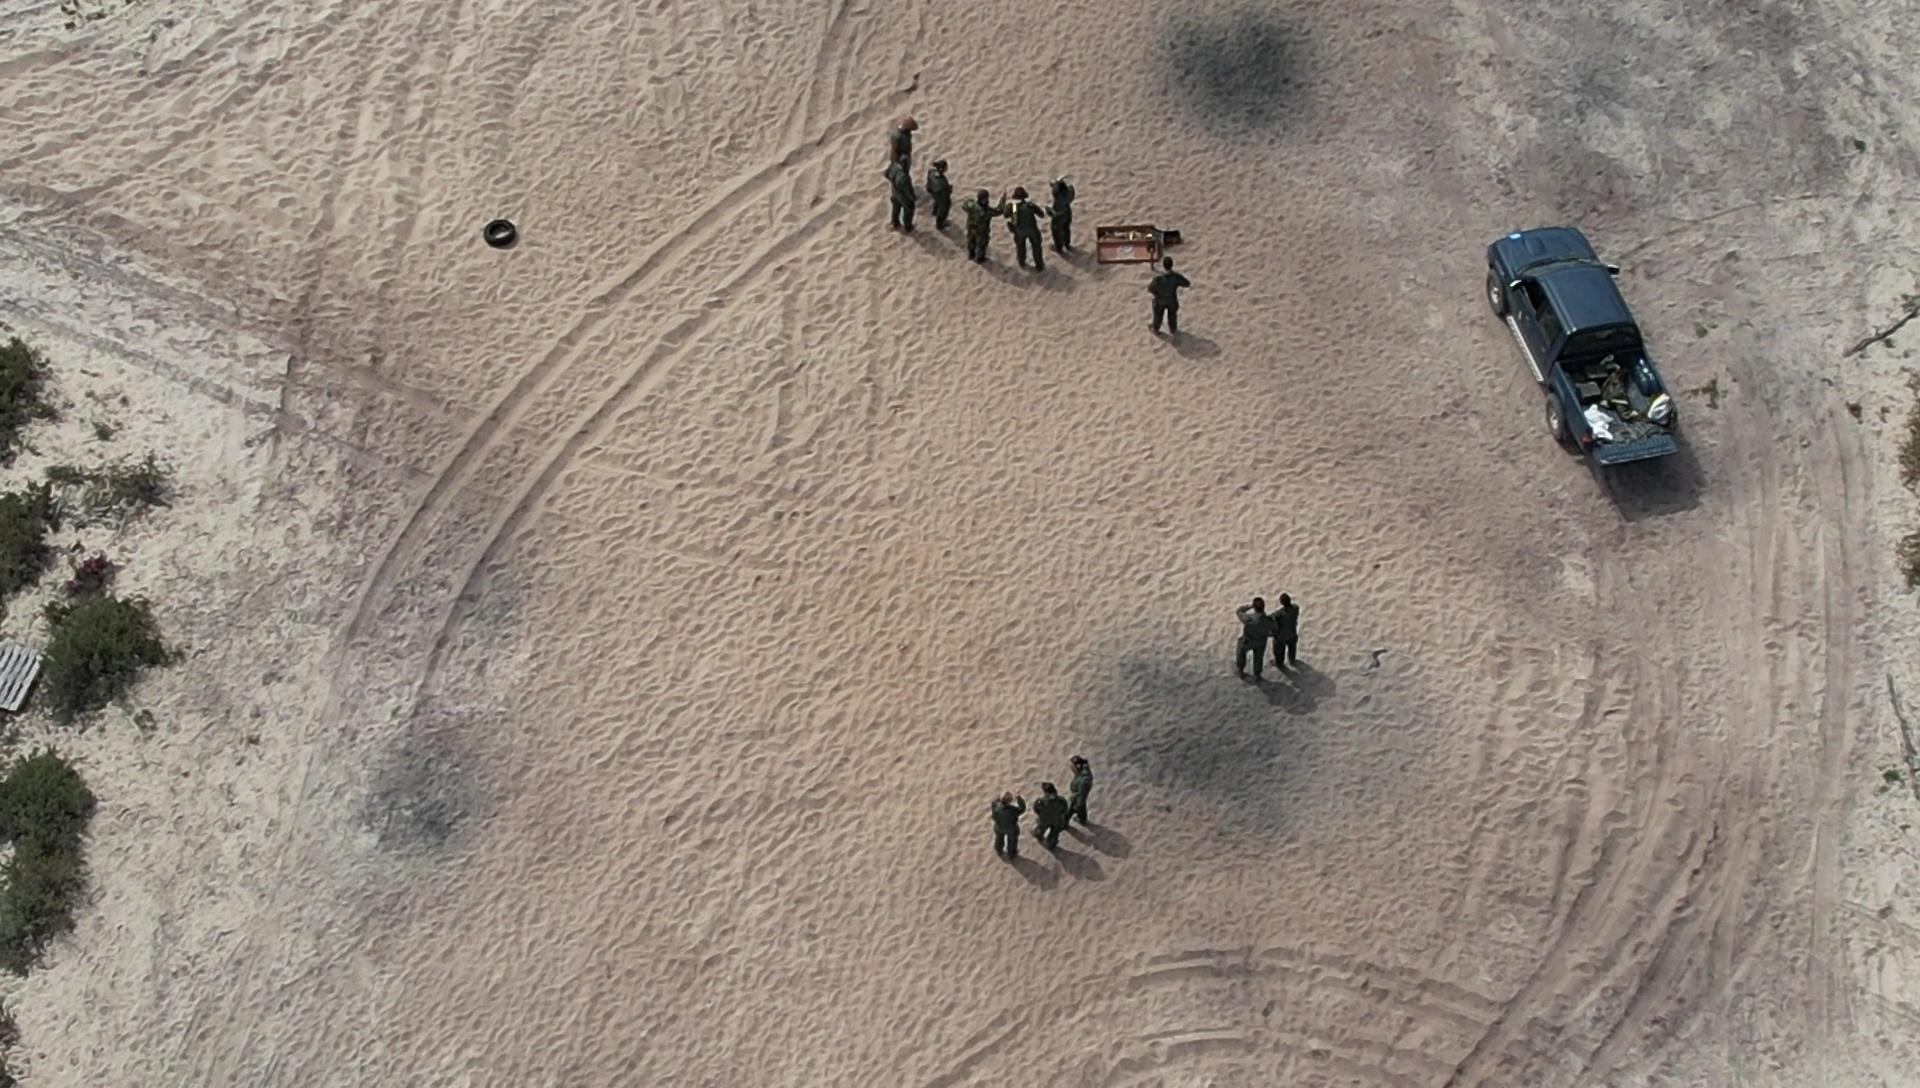Soldier: (953, 175, 1010, 282), (984, 779, 1046, 877), (1139, 255, 1200, 351), (1004, 185, 1054, 289), (1036, 174, 1085, 270), (1234, 595, 1284, 687), (916, 149, 963, 247), (880, 153, 934, 233), (1030, 779, 1077, 861), (1267, 584, 1305, 680), (1054, 766, 1104, 837), (880, 142, 920, 177)
